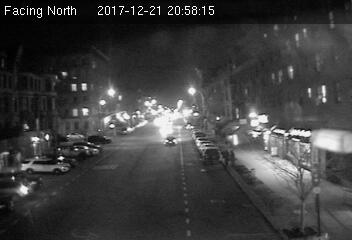car: (163, 134, 178, 145)
